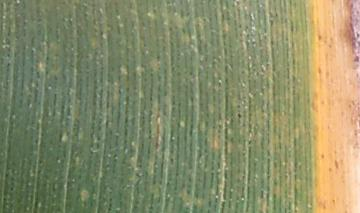tarspot: (237, 112, 242, 119)
